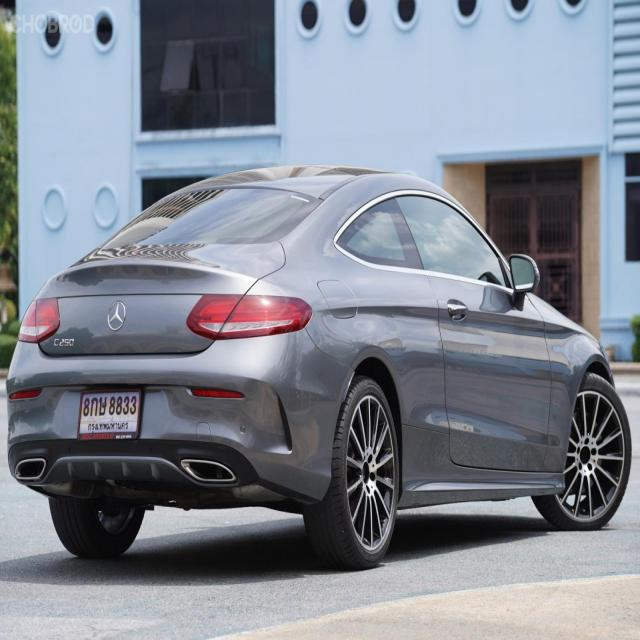license_plate: (77, 386, 142, 441)
